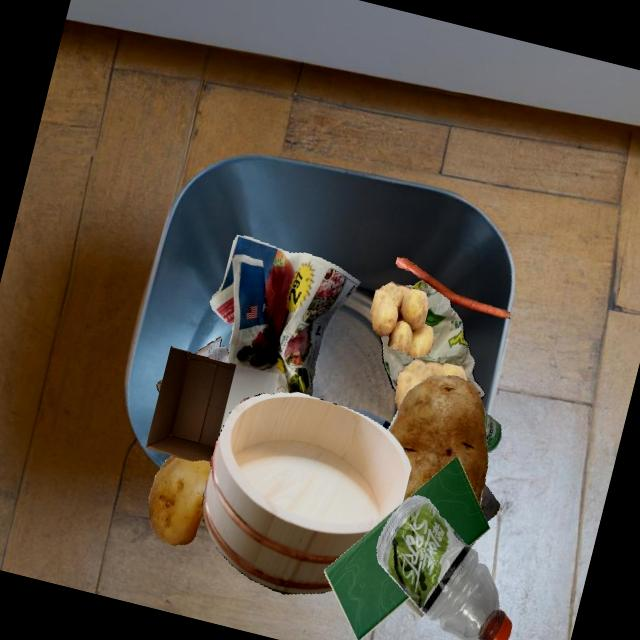biowaste: (387, 375, 487, 506), (395, 257, 509, 318), (148, 455, 210, 545), (370, 281, 433, 358), (395, 358, 467, 410)
cardboard: (145, 346, 279, 461)
combustible waste: (201, 391, 411, 593)
glass: (484, 411, 501, 452)
paper: (209, 234, 360, 396), (379, 279, 484, 399), (324, 501, 409, 640), (405, 513, 497, 601), (405, 456, 489, 546), (194, 336, 228, 363), (479, 483, 499, 522), (405, 597, 424, 617)
plastic: (376, 495, 512, 640), (348, 408, 390, 430)
